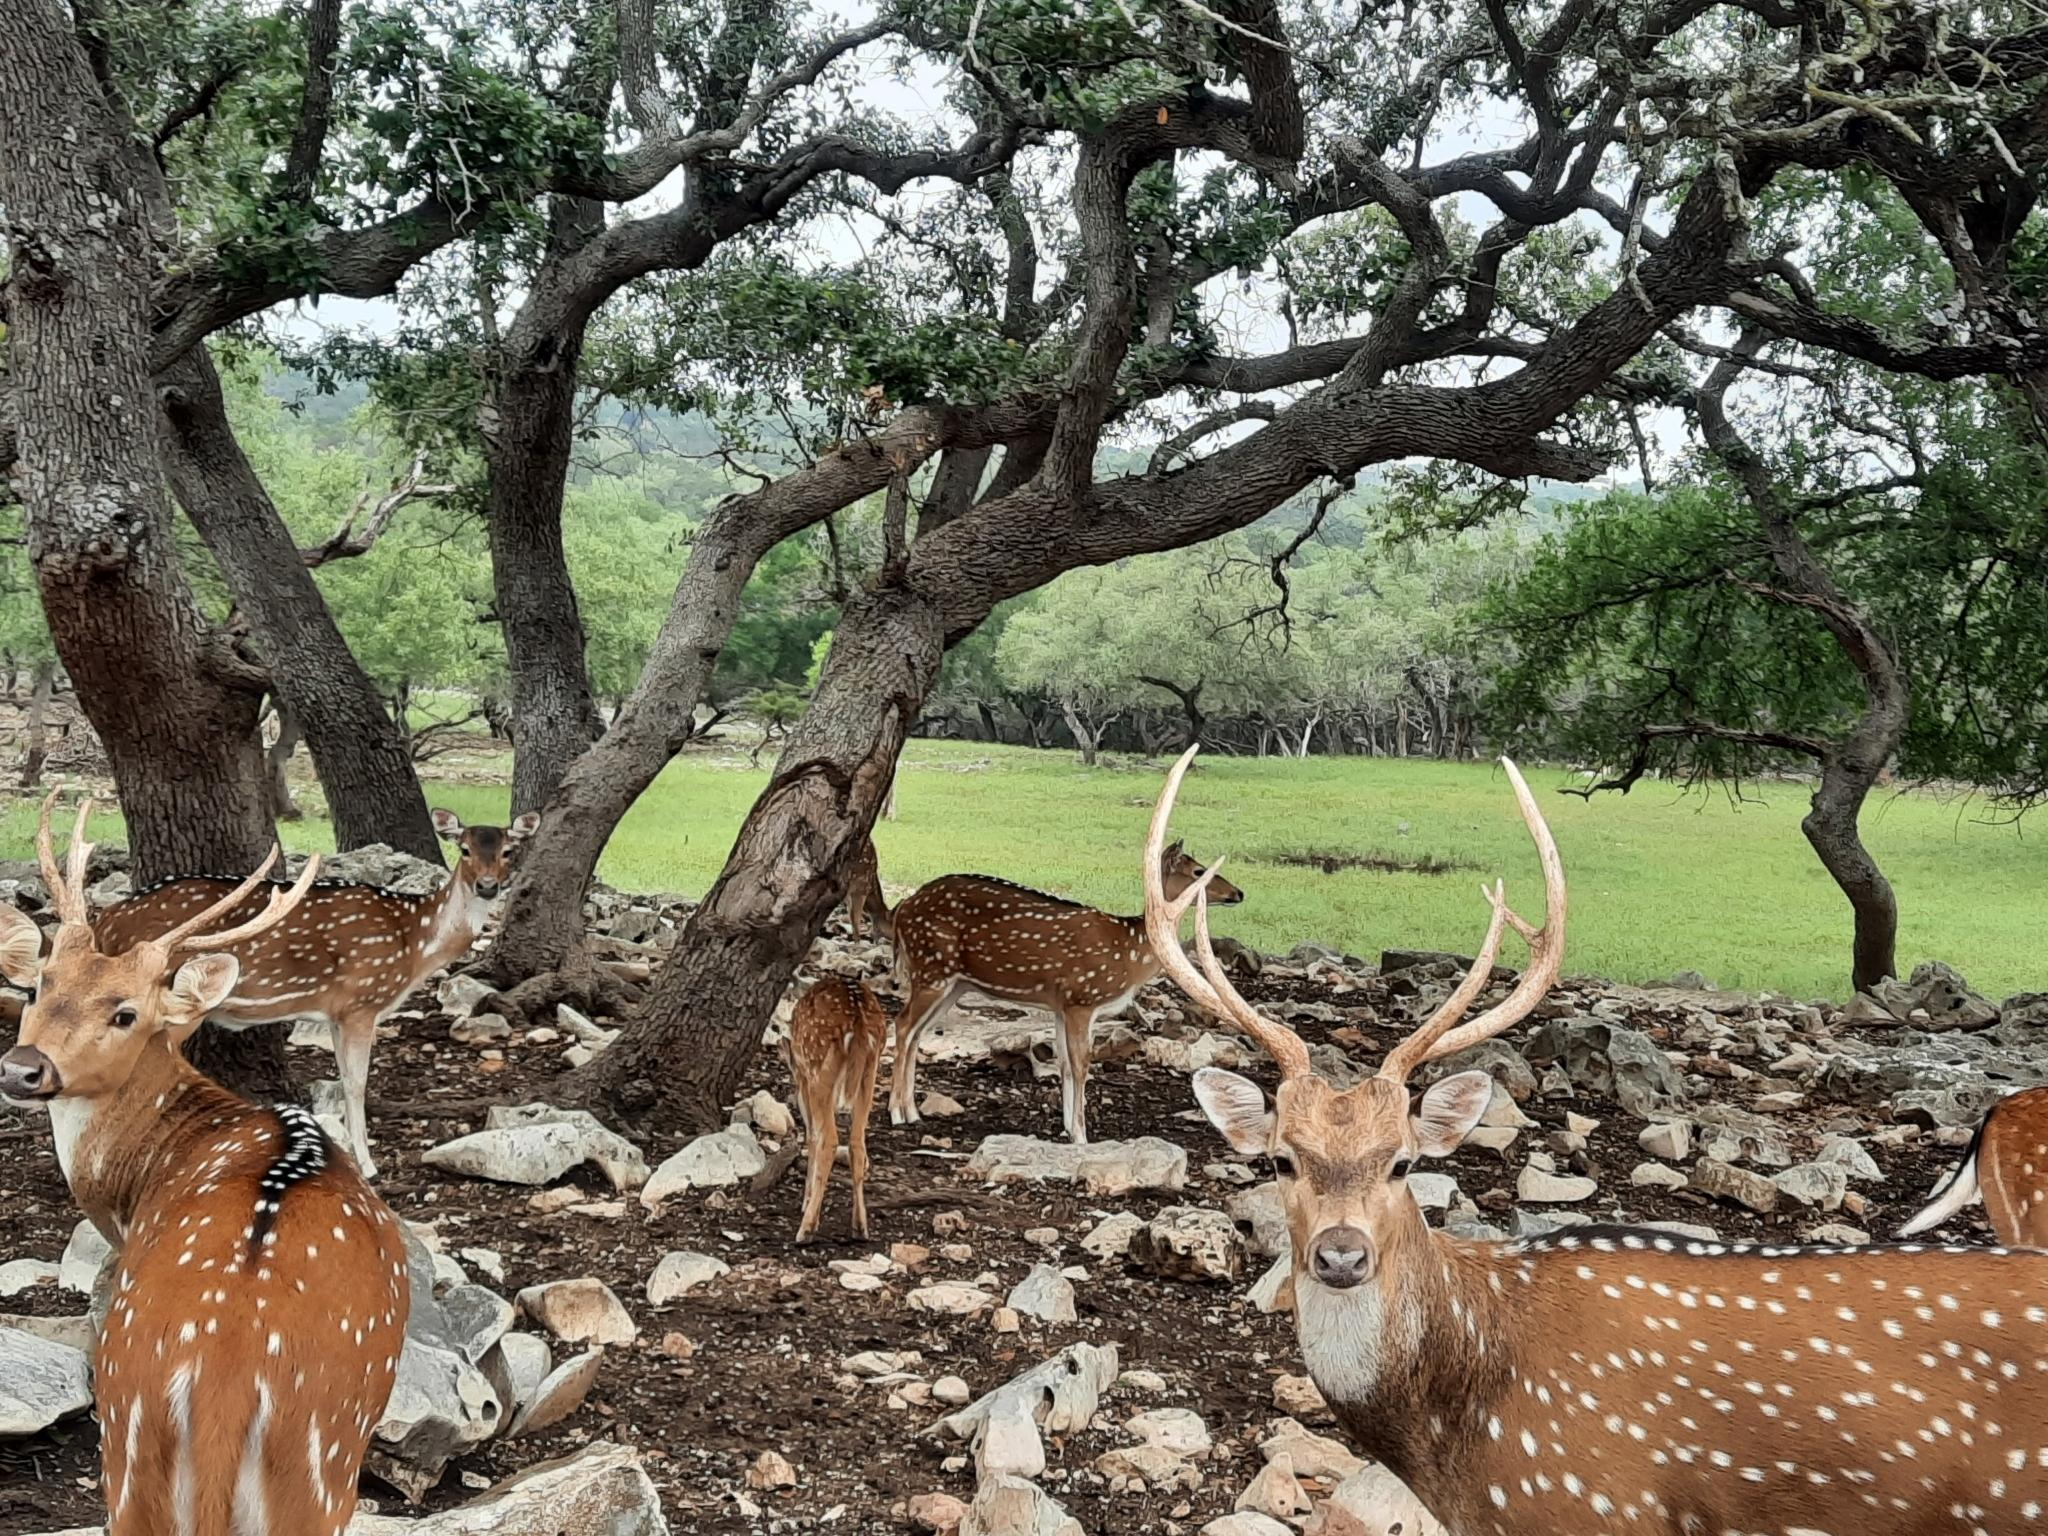Deer: (1143, 752, 2046, 1534), (0, 800, 410, 1534), (206, 808, 537, 1175), (889, 874, 1161, 1142), (789, 976, 887, 1242)
